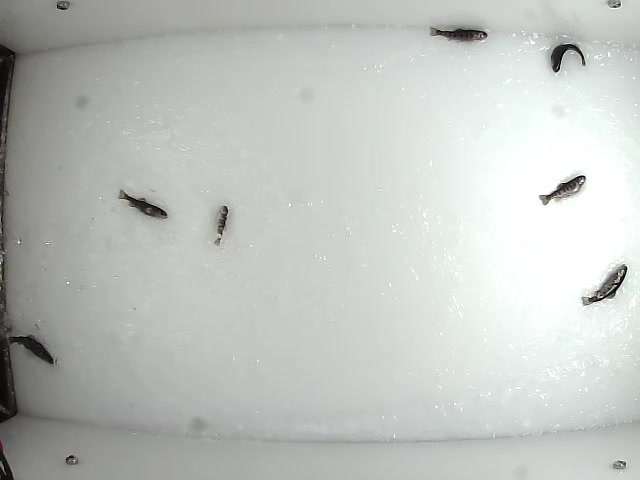fish: (579, 262, 627, 308), (1, 333, 57, 366), (117, 187, 169, 221), (538, 171, 587, 206), (550, 43, 588, 76), (428, 24, 488, 44), (210, 201, 229, 249)
